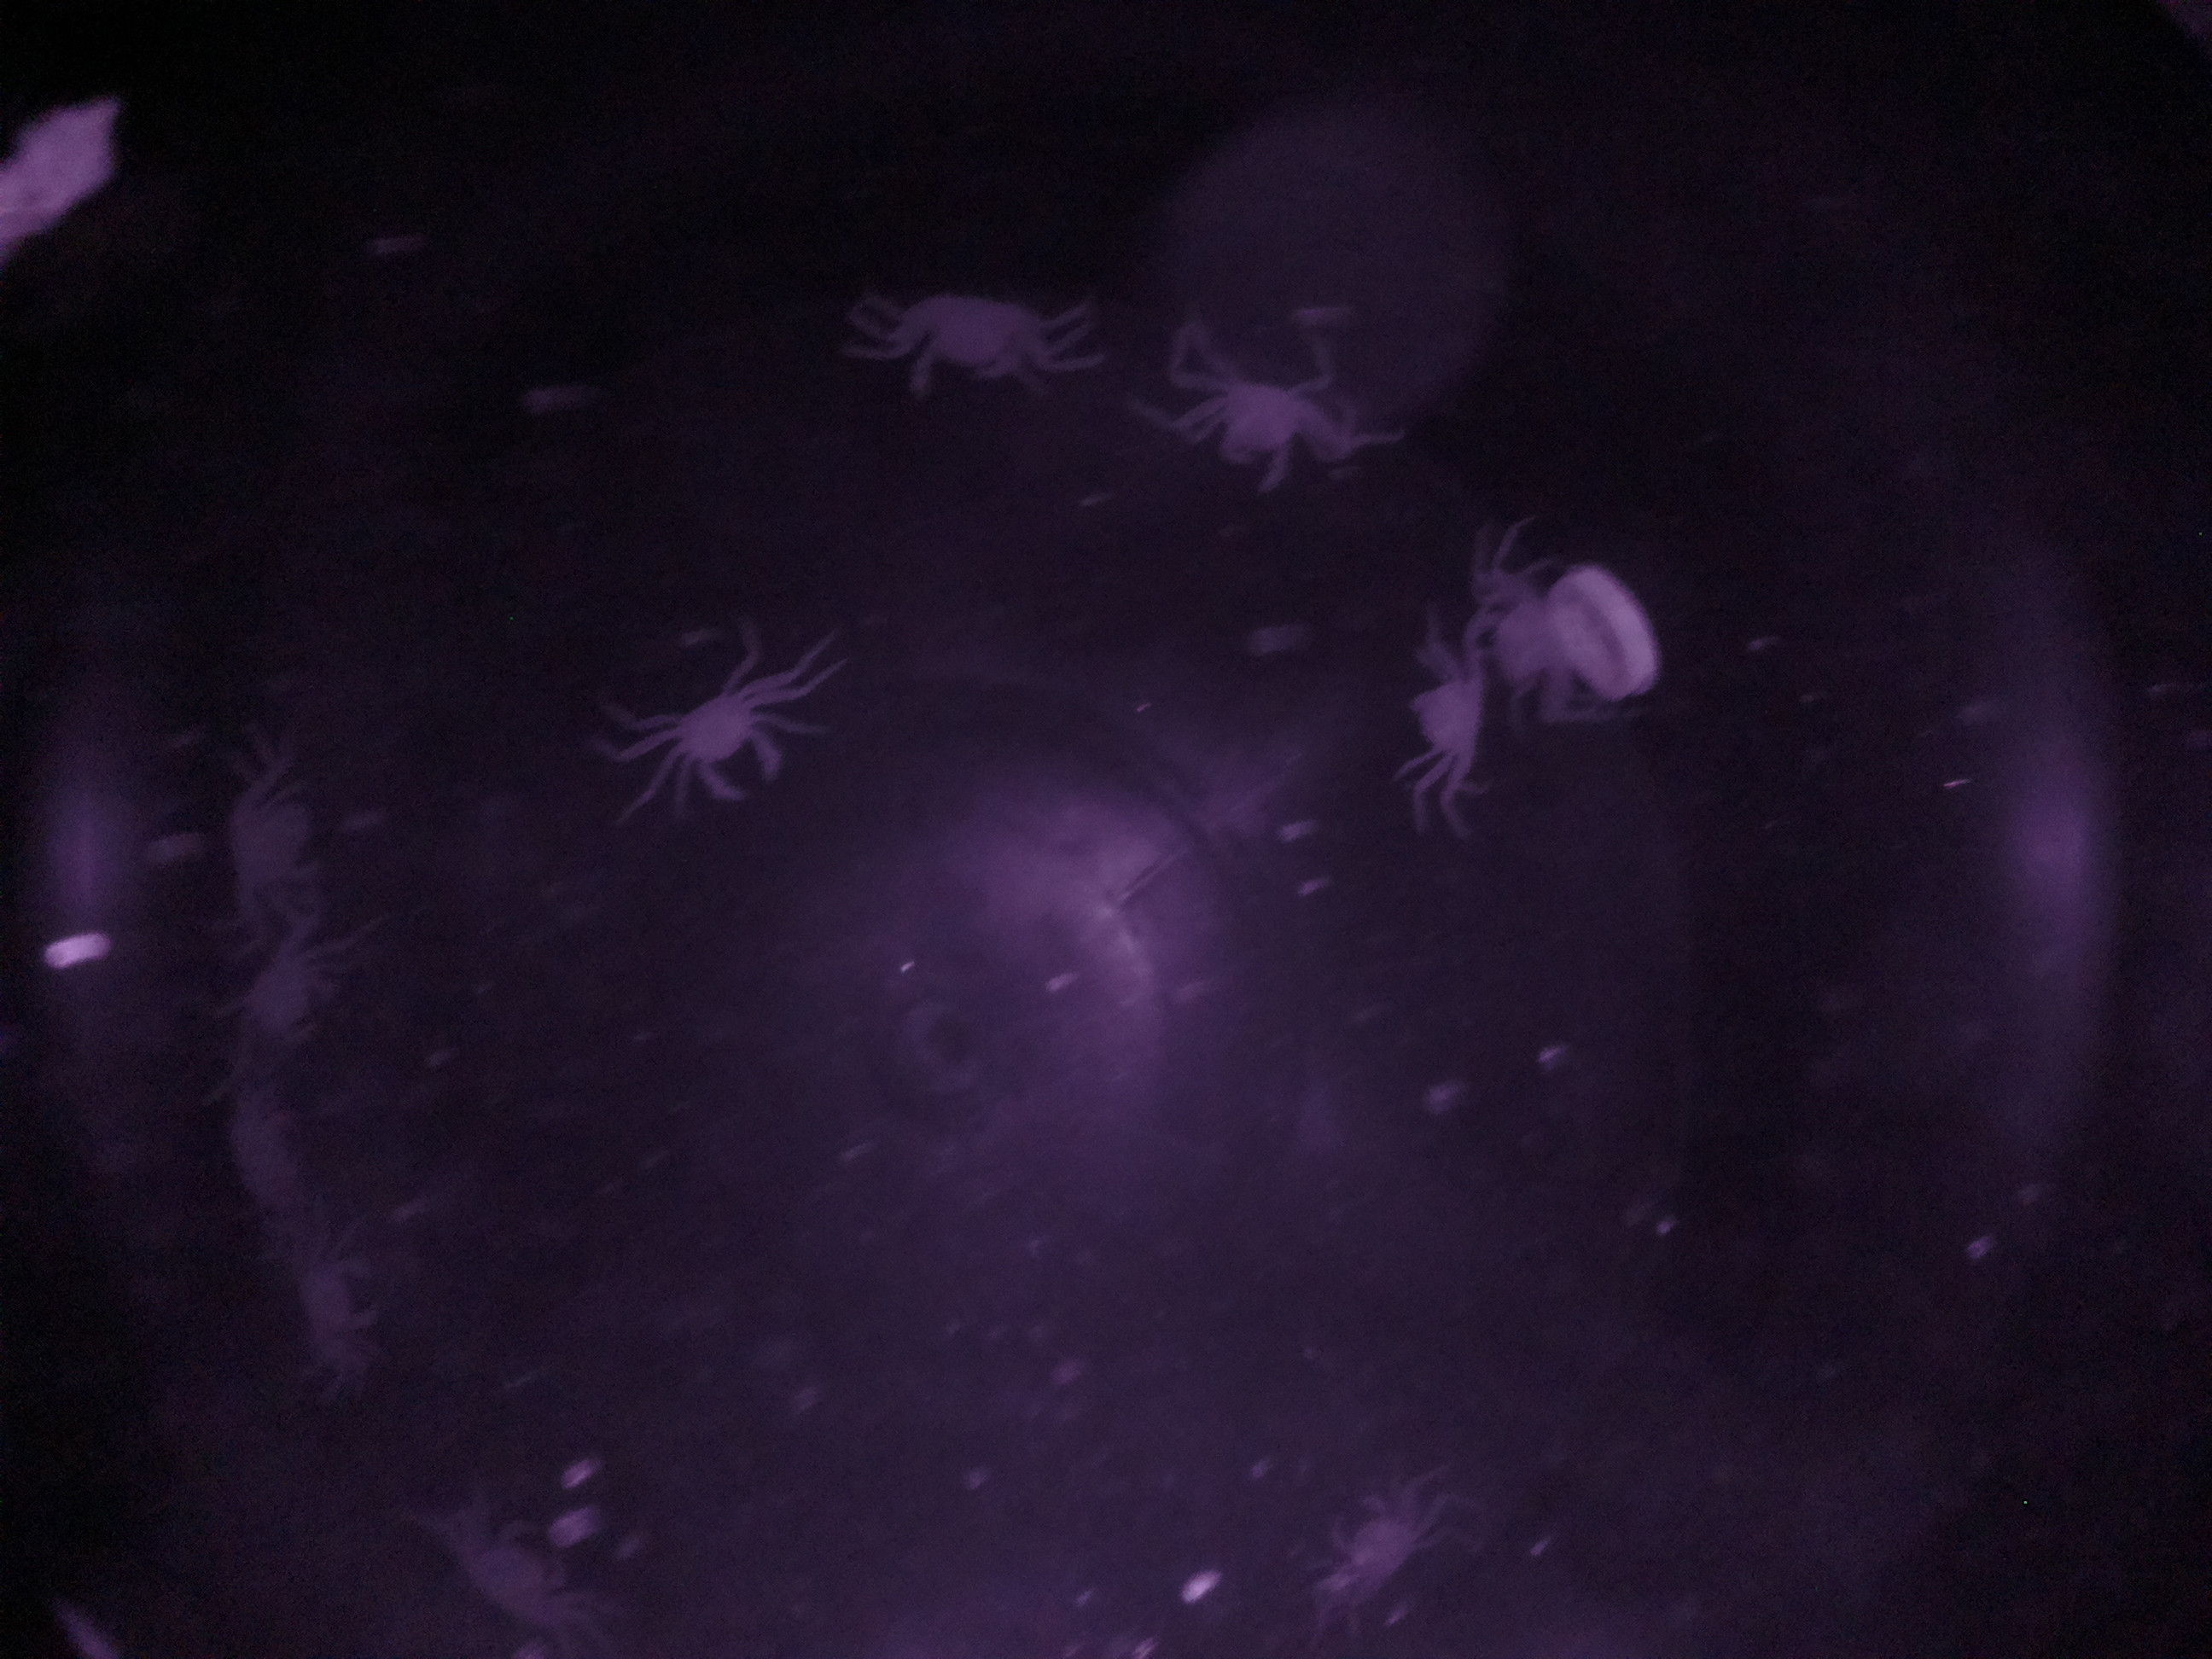Crab: (627, 648, 813, 826), (857, 277, 1071, 420), (1153, 336, 1339, 493), (1378, 640, 1510, 802)
